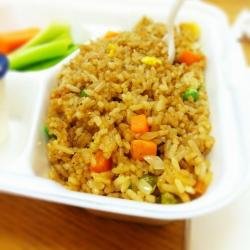rice: (63, 42, 194, 193)
